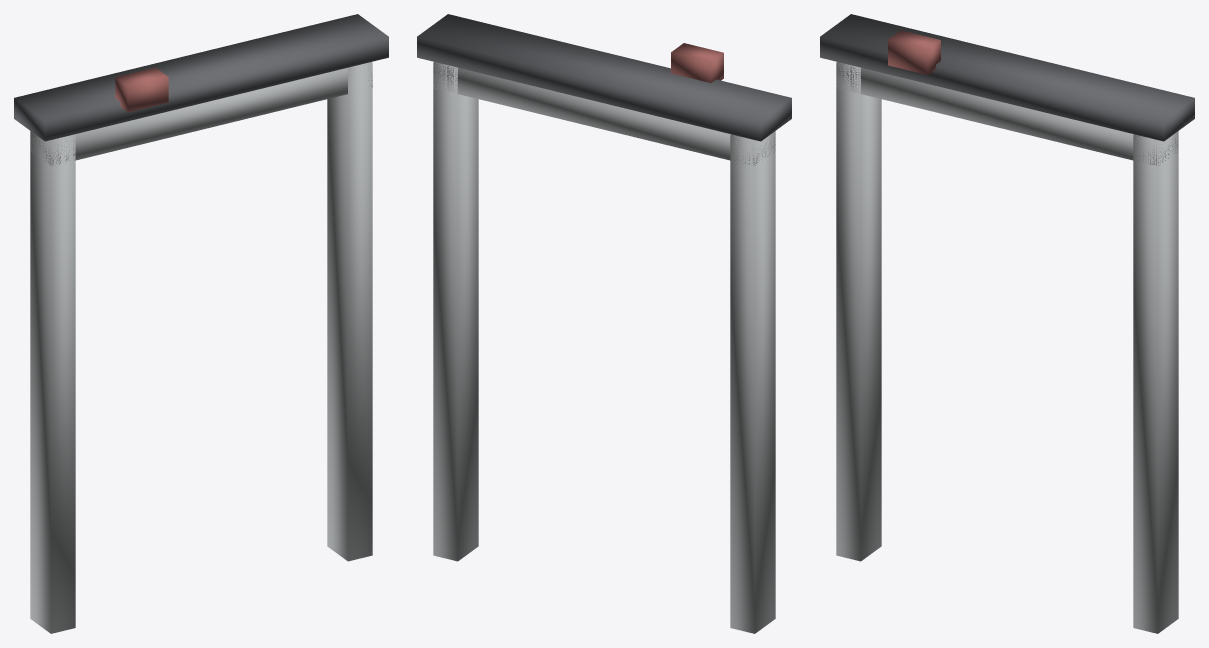
Rendered from doorway_fire_rated_w122_h200_d16.glb.
3 renders of one model, left to right at view 1: azimuth 30°, elevation 25°; view 2: azimuth 150°, elevation 25°; view 3: azimuth 330°, elevation 25°, orthographic.
Parts seen in each view (by area): view 1: world; view 2: world; view 3: world.
Boxes of the visible parts, bbox=[...] form: world: bbox=[14, 14, 388, 633]; world: bbox=[417, 14, 791, 633]; world: bbox=[820, 14, 1194, 633].
Bounding box in the file's own units: 1.54 × 2.31 × 0.3.
